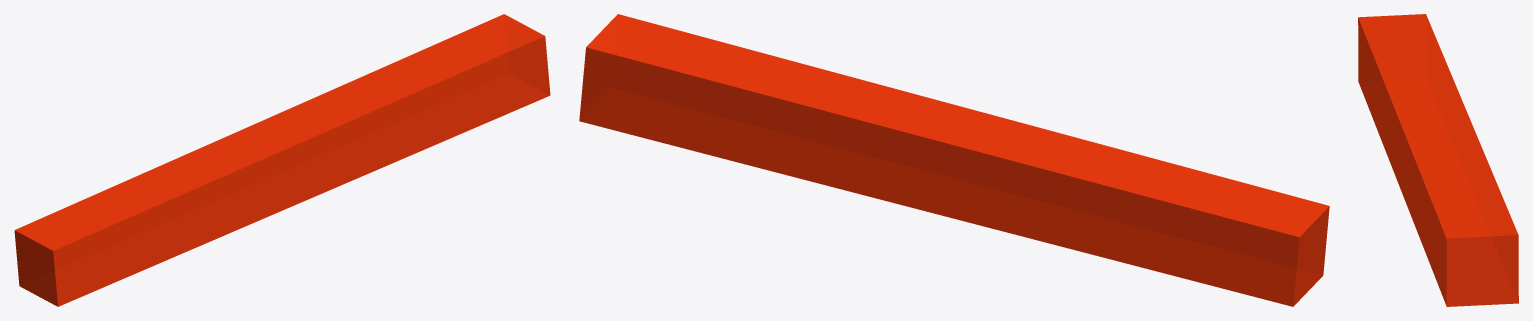
File: Event_421278790_EErechit_39.fbx
3 renders of one model, left to right at view 1: azimuth 30°, elevation 25°; view 2: azimuth 150°, elevation 25°; view 3: azimuth 270°, elevation 25°, orthographic. The views are drawn at different scales.
Visible parts, largest first — view 1: Model; view 2: Model; view 3: Model.
Part boxes in pixels (x1,y1,x2,y2): Model: (14,14,550,306); Model: (579,14,1329,306); Model: (1358,14,1518,306).
Bounding box in the file's own units: 0.7197 × 0.142 × 0.1703.
